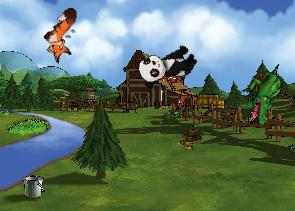crocodile: (245, 64, 283, 125)
fox: (34, 4, 94, 66)
panda: (133, 39, 200, 91)
